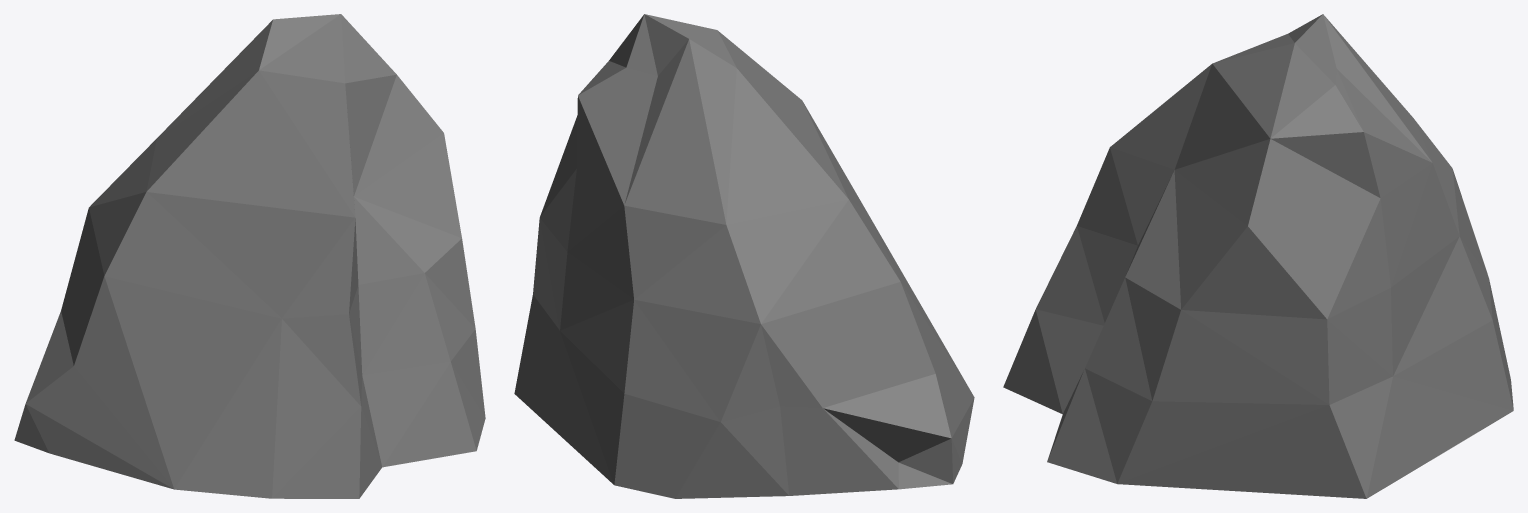
Rendered from _stone_2.glb.
3 renders of one model, left to right at view 1: azimuth 30°, elevation 25°; view 2: azimuth 150°, elevation 25°; view 3: azimuth 270°, elevation 25°, orthographic. The views are drawn at different scales.
Parts seen in each view (by area): view 1: stone_2; view 2: stone_2; view 3: stone_2.
Part boxes in pixels (x1=…): stone_2: x1=14, y1=14, x2=485, y2=498; stone_2: x1=514, y1=14, x2=974, y2=498; stone_2: x1=1003, y1=14, x2=1513, y2=498.
Size of the model in its own units: 1.18 by 1.01 by 1.15.
Materials: 1 (1 with a texture image).
